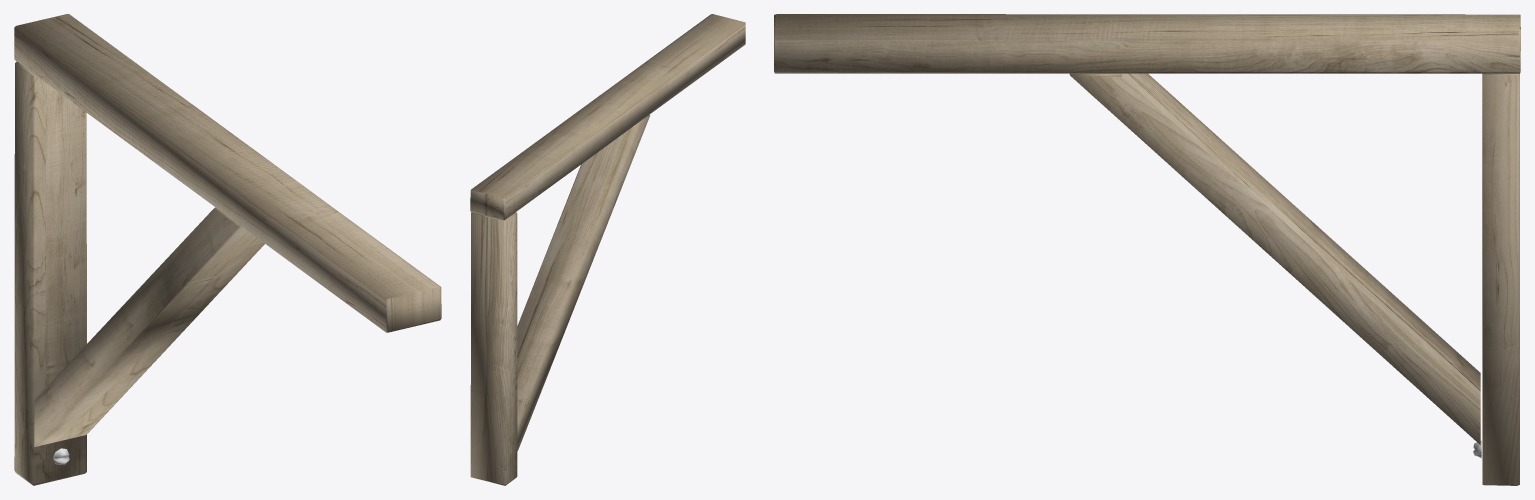
Rendered from rod-hanger-empty.glb.
3 views of the same model, side by side, from view 1: azimuth 30°, elevation 25°; view 2: azimuth 150°, elevation 25°; view 3: azimuth 270°, elevation 25° (orthographic). The views are drawn at different scales.
Visible parts, largest first — view 1: wood_hanger3.001; view 2: wood_hanger3.001; view 3: wood_hanger3.001.
Part boxes in pixels (left/top/right/bottom): wood_hanger3.001: left=14, top=14, right=441, bottom=485; wood_hanger3.001: left=470, top=14, right=745, bottom=485; wood_hanger3.001: left=774, top=14, right=1520, bottom=485.
Size of the model in its own units: 0.0335 by 0.2631 by 0.3993.
Materials: 2 (1 with a texture image).
